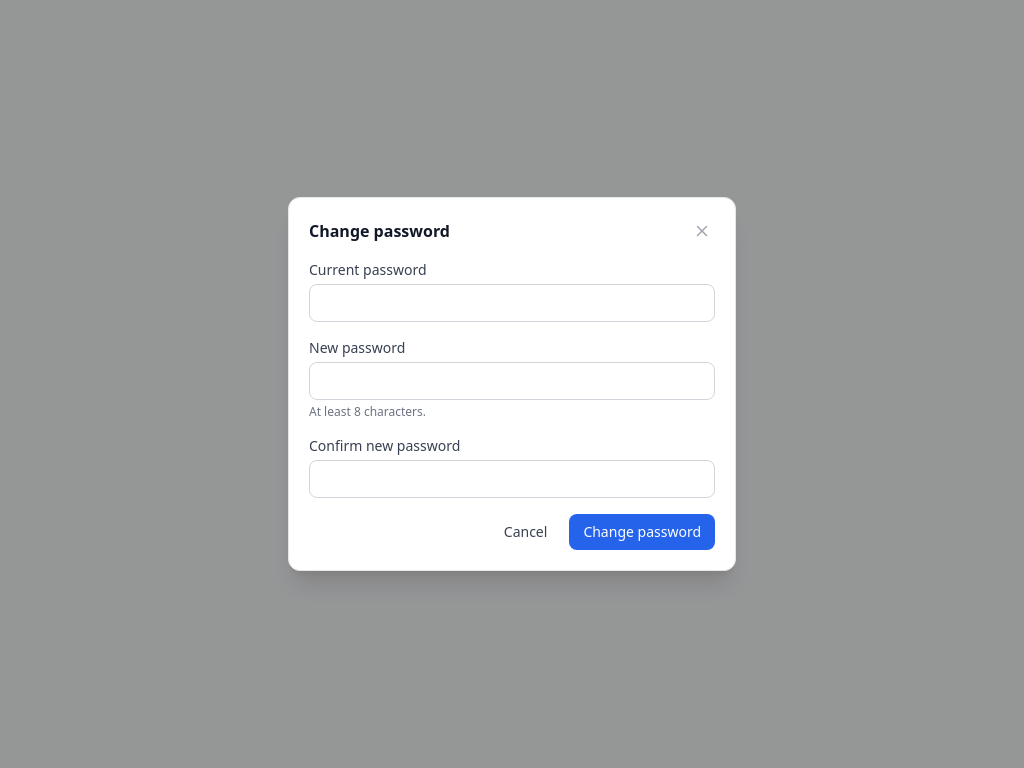
Test case: ChangePasswordModal › asks for at least 8 characters
This screenshot has width=1024, height=768.
Type "old-password" into the password field labelled "Current password".
click(512, 303); type("old-password")  # box [309, 284, 715, 322]
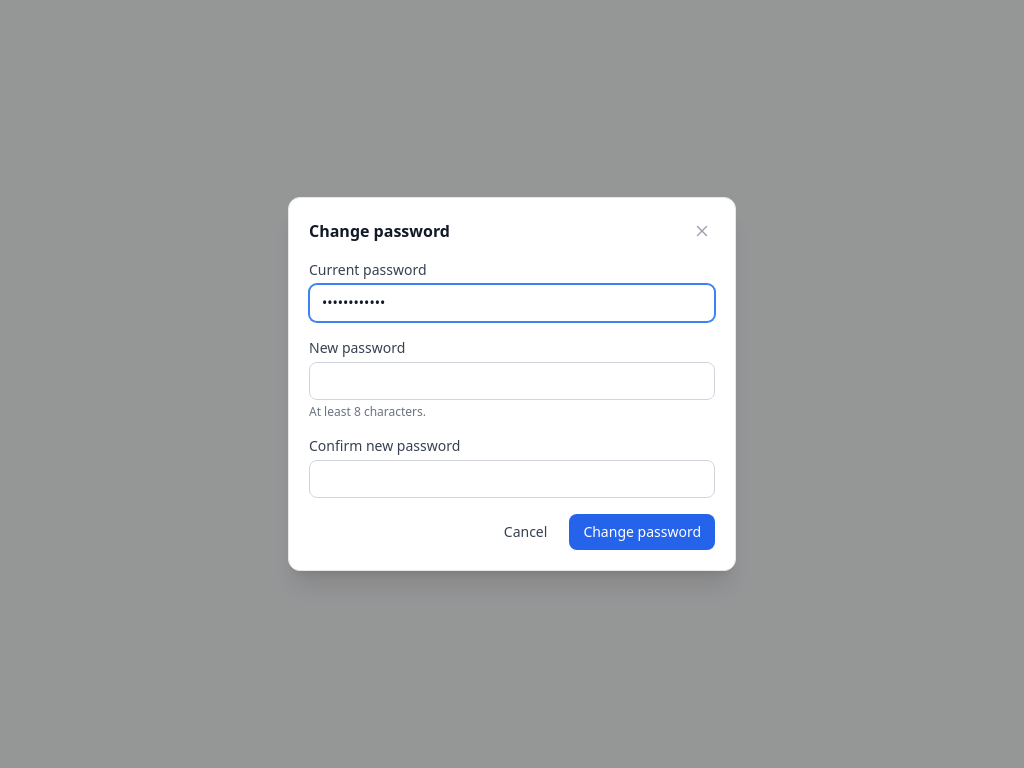
Type "short" into the password field labelled "New password".
click(512, 381); type("short")  # box [309, 362, 715, 400]
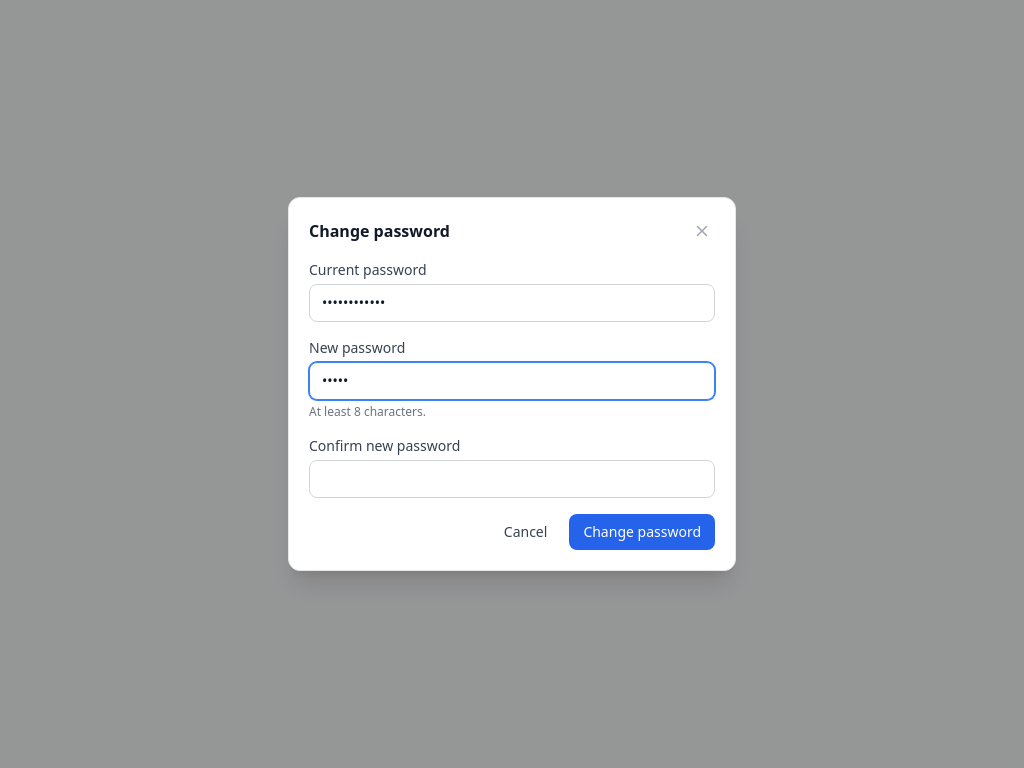
Type "short" into the password field labelled "Confirm new password".
click(512, 479); type("short")  # box [309, 460, 715, 498]
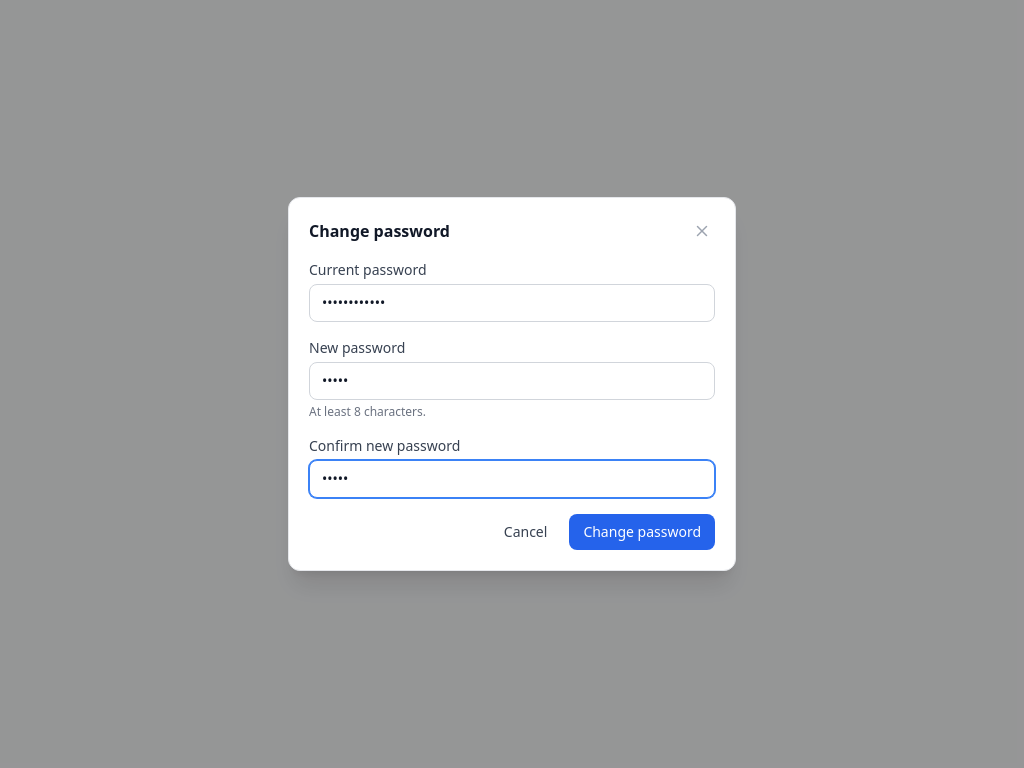
Click the button "Change password".
click(642, 532)  # box [569, 514, 715, 550]
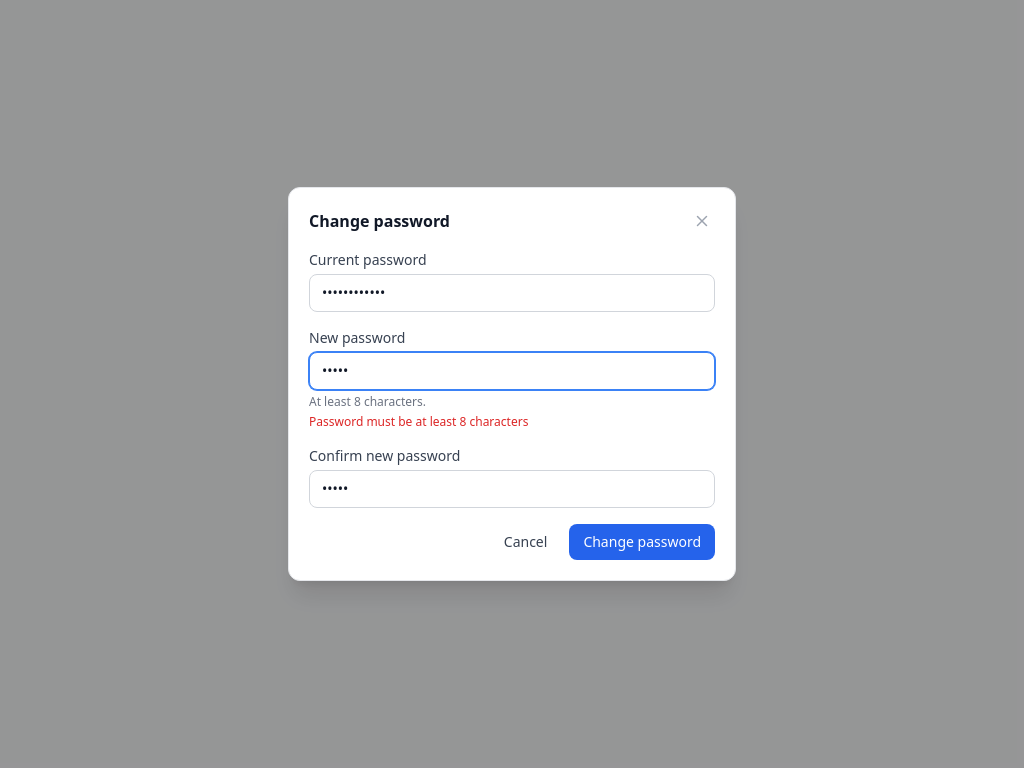
Result: the text "Password must be at least 8 characters" is shown at [309, 413, 528, 430]
